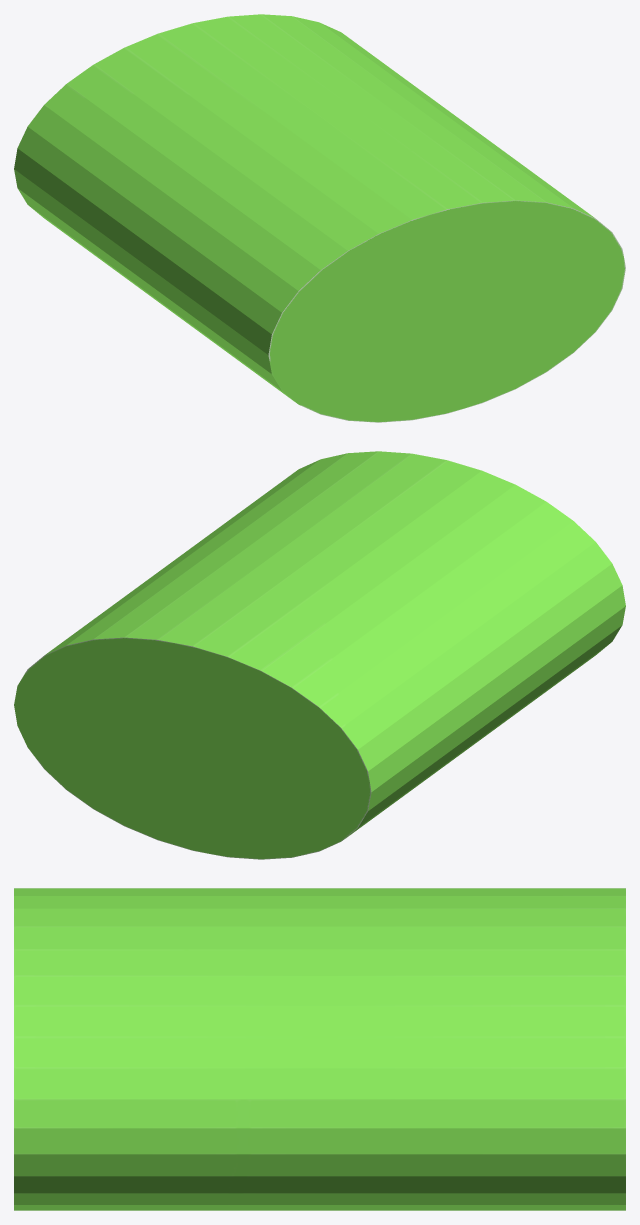
Rendered from particle.obj.
The picture shows the model from 3 angles, top to bottom: view 1: azimuth 30°, elevation 25°; view 2: azimuth 150°, elevation 25°; view 3: azimuth 270°, elevation 25°; orthographic projection. The views are drawn at different scales.
Parts seen in each view (by area): view 1: 円柱; view 2: 円柱; view 3: 円柱.
Boxes of the visible parts, left/top/right/bottom form: 円柱: left=14, top=14, right=625, bottom=422; 円柱: left=14, top=451, right=625, bottom=859; 円柱: left=14, top=888, right=625, bottom=1210.
Size of the model in its own units: 1.89 by 1.03 by 2.33.
